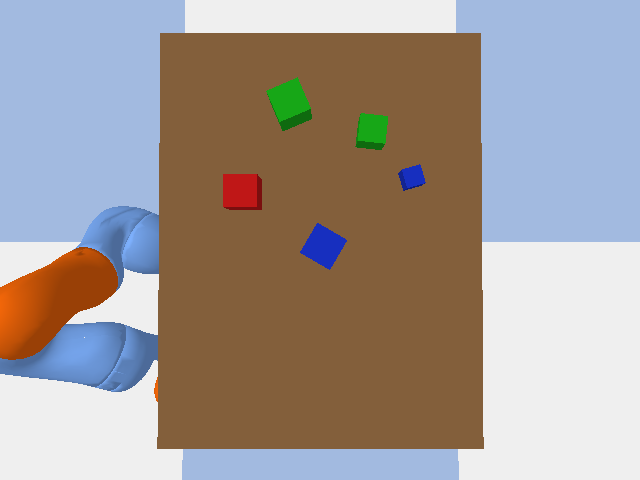blue_obj: (300, 223, 346, 269), (398, 164, 425, 190)
green_obj: (266, 77, 311, 130), (355, 113, 387, 149)
red_obj: (223, 174, 261, 209)
